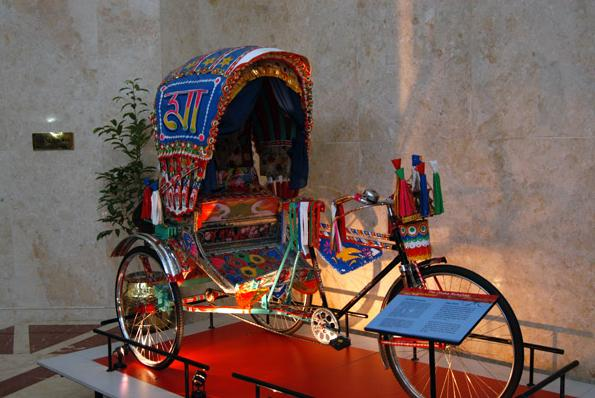Rickshaw: (112, 41, 496, 366)
